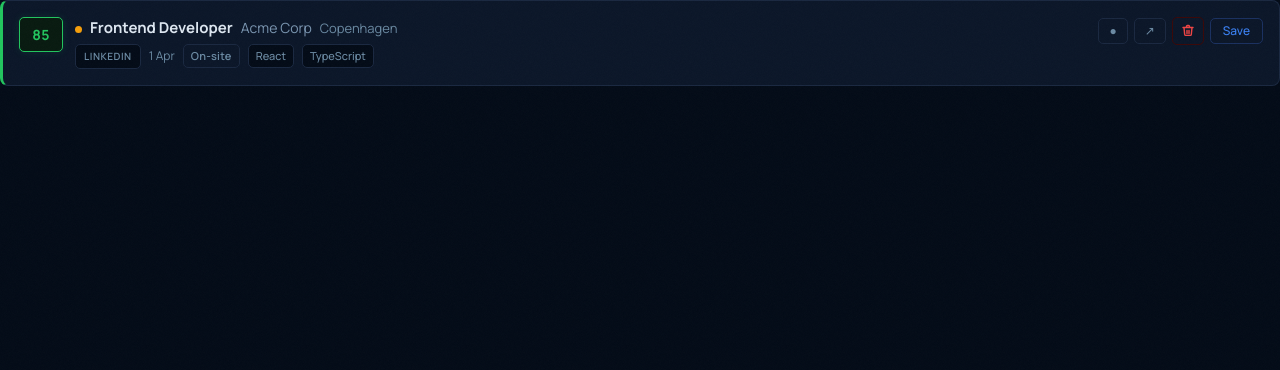
Scenario: JobRow › expands to show JobDetail when row is clicked
The width and height of the screenshot is (1280, 370).
Check: the text "Fit Analysis" is not shown
What coordinates should you click on to do the following:
click the text "Frontend Developer"
I would click on:
 (161, 28)
Its box is top-left (90, 17), bottom-right (233, 40).
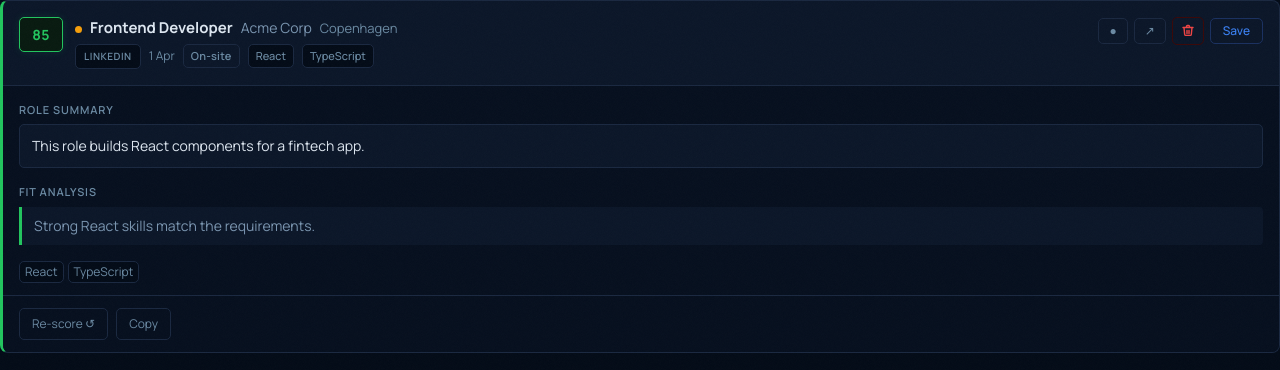
Check: the text "Fit Analysis" is shown, box top-left (19, 184), bottom-right (97, 199)
